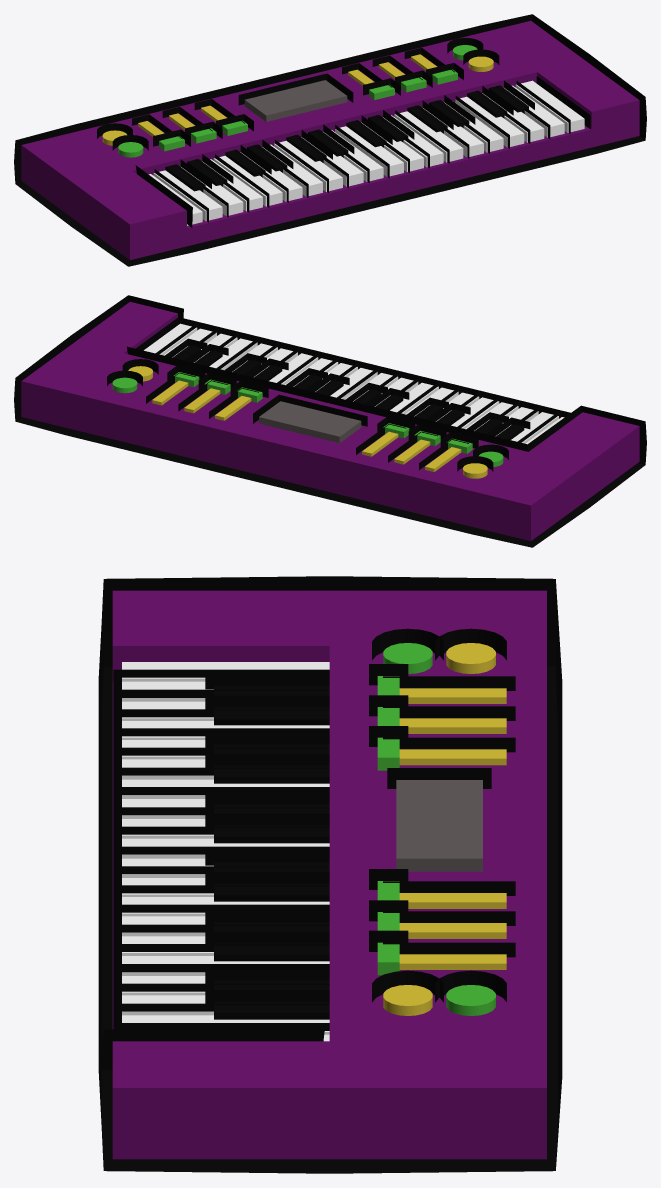
Rendered from Keyboard.FBX.
3 views of the same model, one above another, from view 1: azimuth 30°, elevation 25°; view 2: azimuth 150°, elevation 25°; view 3: azimuth 270°, elevation 25° (orthographic). The views are drawn at different scales.
Parts seen in each view (by area): view 1: Keyboard, KeyboardOutline; view 2: Keyboard, KeyboardOutline; view 3: Keyboard, KeyboardOutline.
Boxes of the visible parts, x1,y1,x2,y2 form: Keyboard: (21, 21, 639, 259); KeyboardOutline: (14, 14, 646, 266); Keyboard: (21, 302, 639, 540); KeyboardOutline: (14, 295, 646, 547); Keyboard: (112, 590, 546, 1159); KeyboardOutline: (98, 576, 562, 1173).
Bounding box in the file's own units: 1.57 × 0.1529 × 0.6044.
